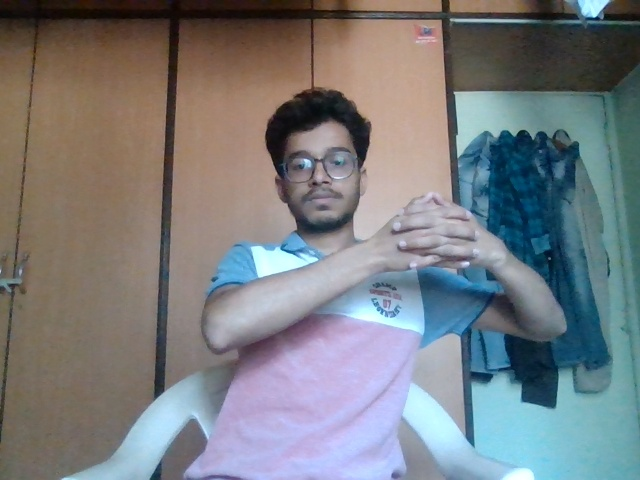good: (367, 184, 509, 291)
